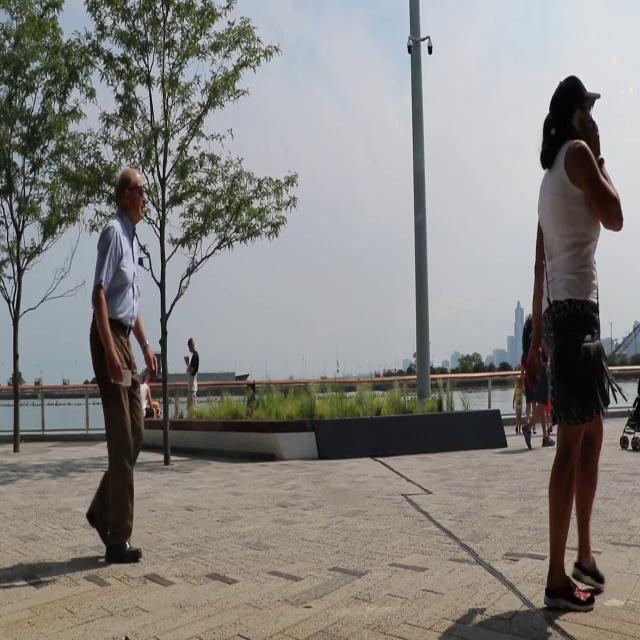normal: (519, 76, 628, 618), (88, 165, 160, 575)
